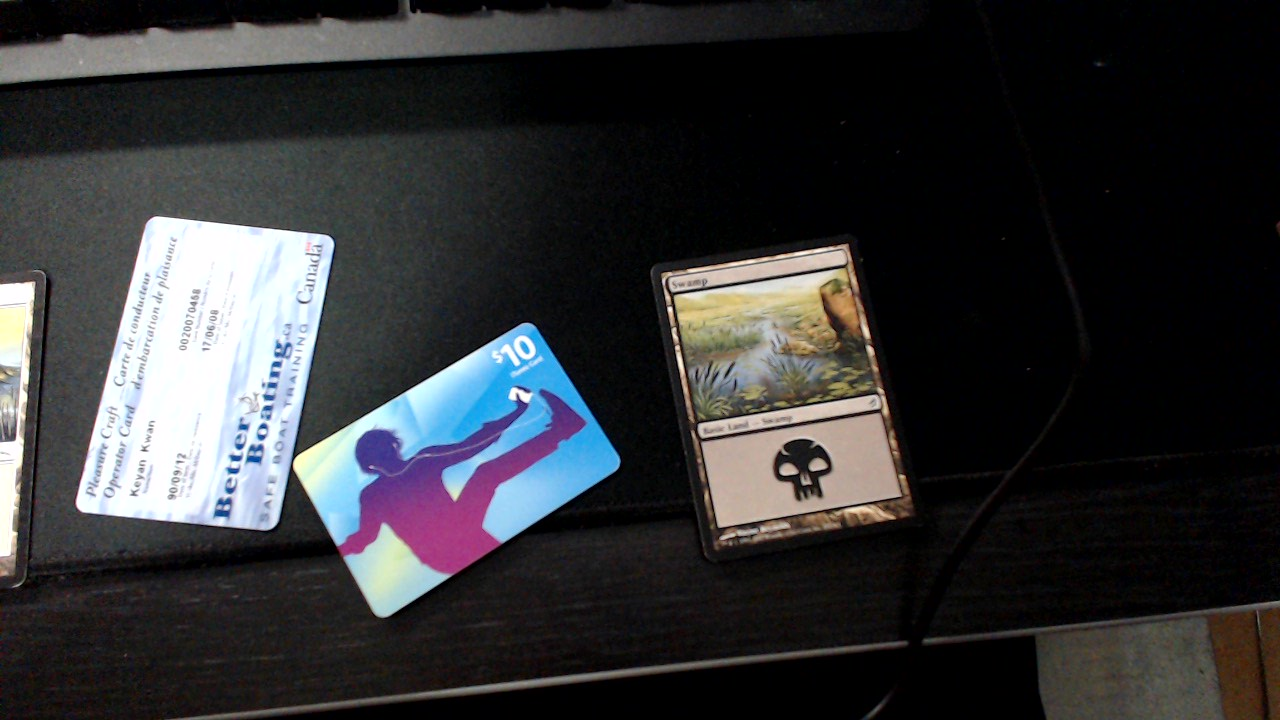MTG Card: (642, 241, 932, 566)
